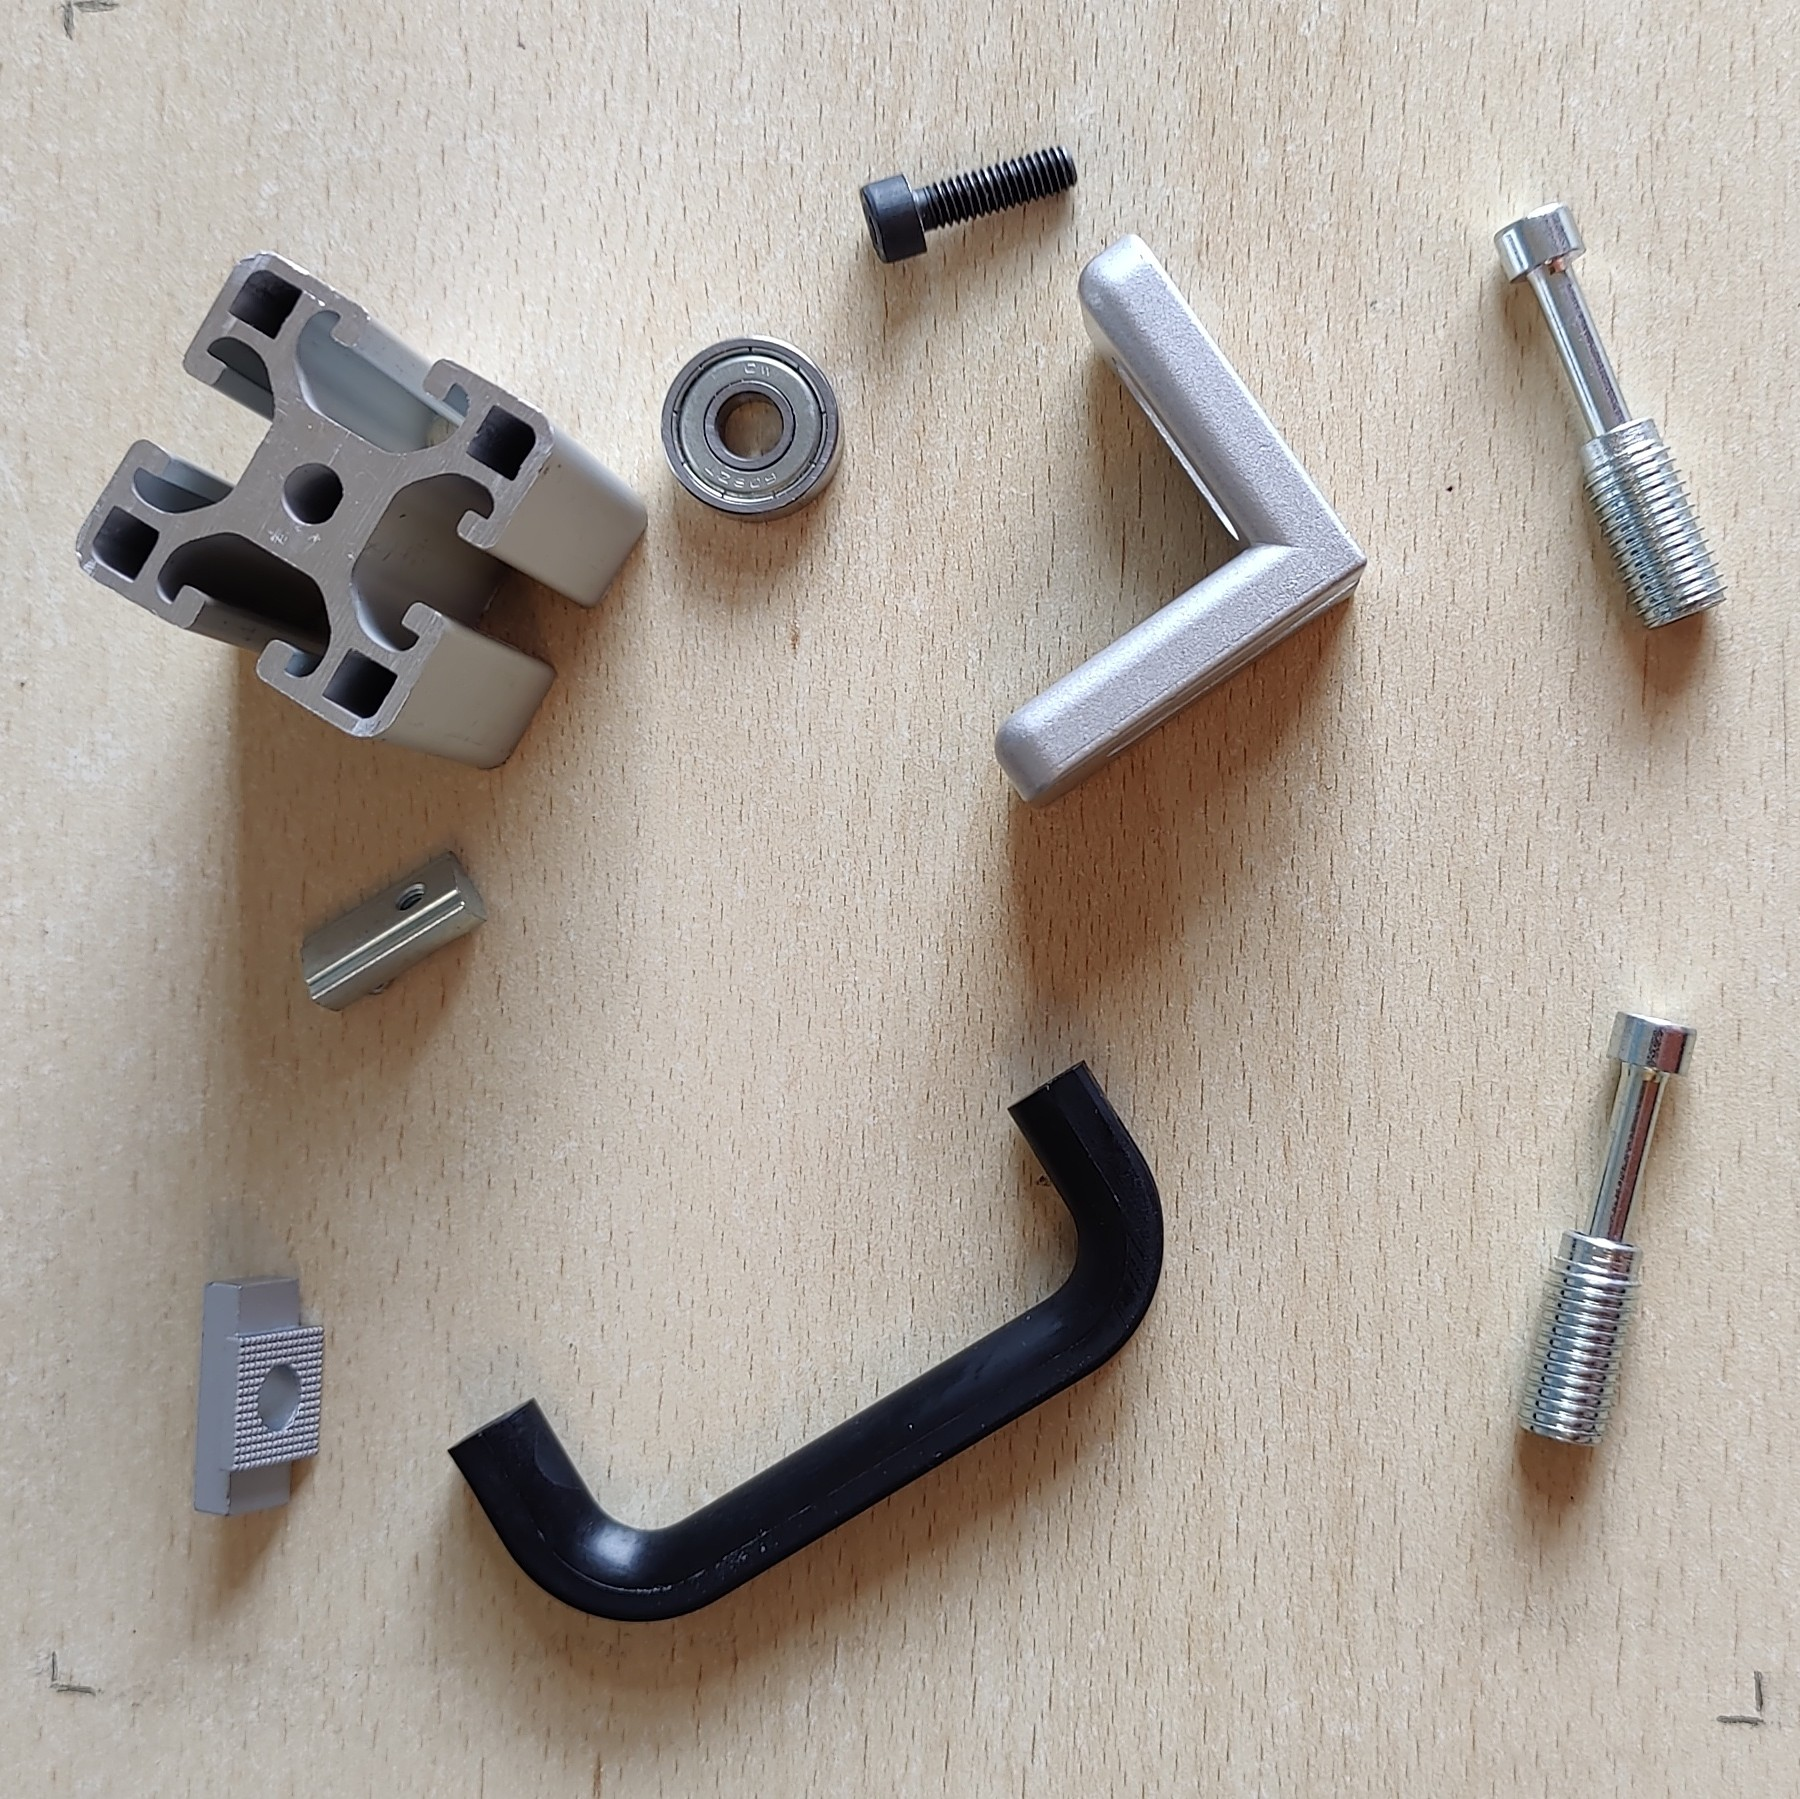Aluminium Extension: (76, 249, 651, 773)
Ball Bearing: (659, 333, 846, 526)
Multiwinkel: (991, 227, 1372, 811)
Pull Handle: (446, 1053, 1168, 1626)
Shoulder Socket Head Cap Screw: (1490, 203, 1731, 633), (1513, 1007, 1696, 1451)
Socket Head Cap Screw: (855, 138, 1079, 267)
T Nut Square: (189, 1269, 328, 1521)
T Spring Nut: (296, 845, 492, 1015)
